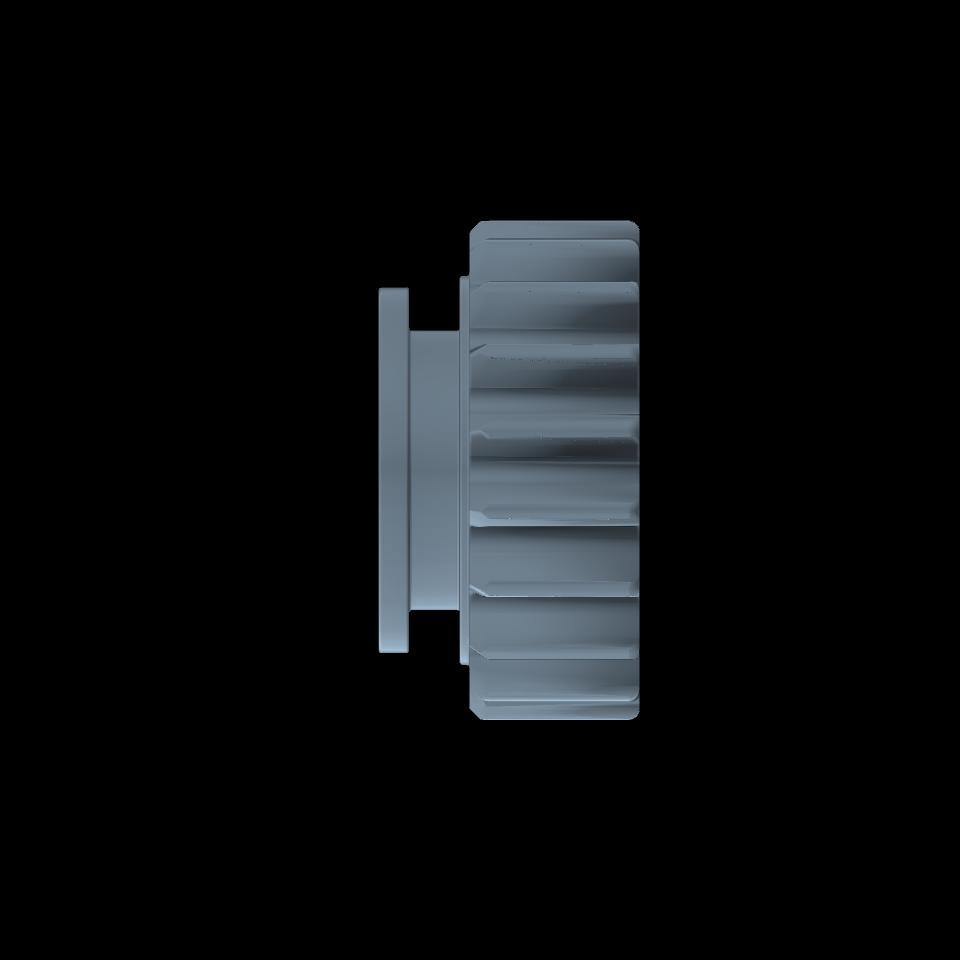Straight: (482, 220, 632, 720)
